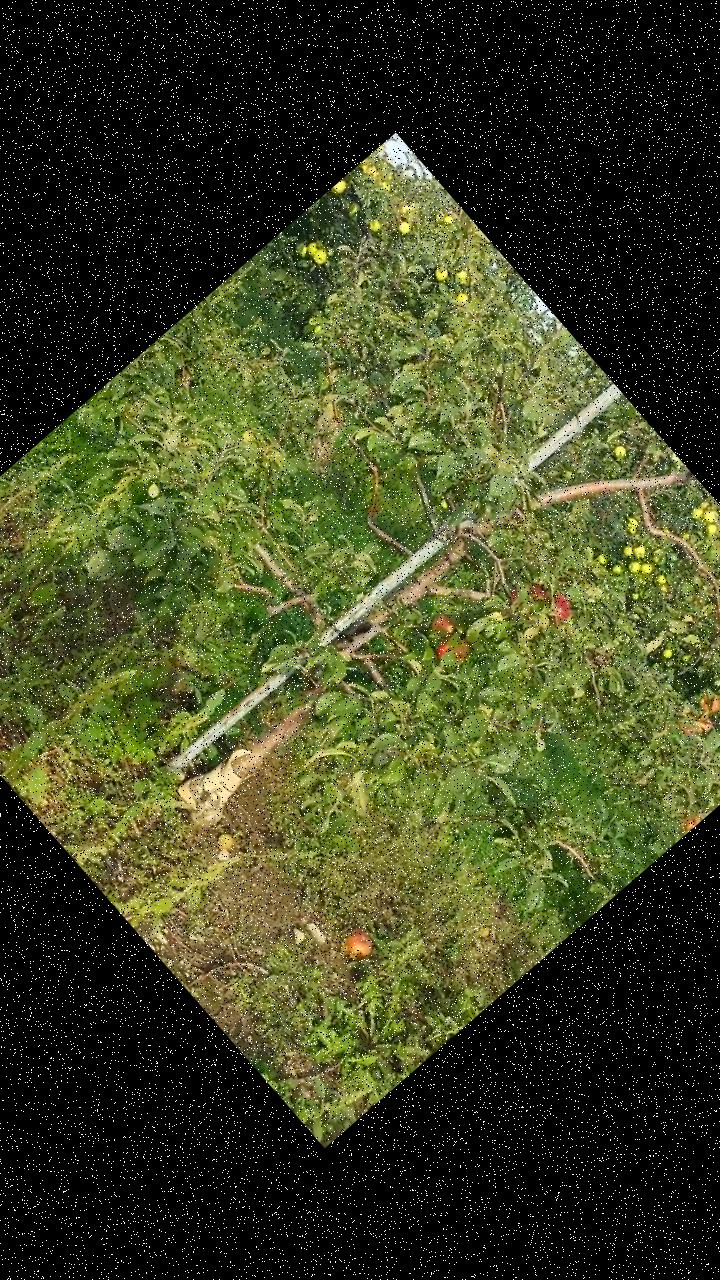Apple: (431, 630, 473, 671), (678, 709, 714, 744), (544, 590, 578, 624), (520, 576, 550, 606), (694, 686, 719, 721), (430, 613, 457, 641), (681, 808, 705, 831)
